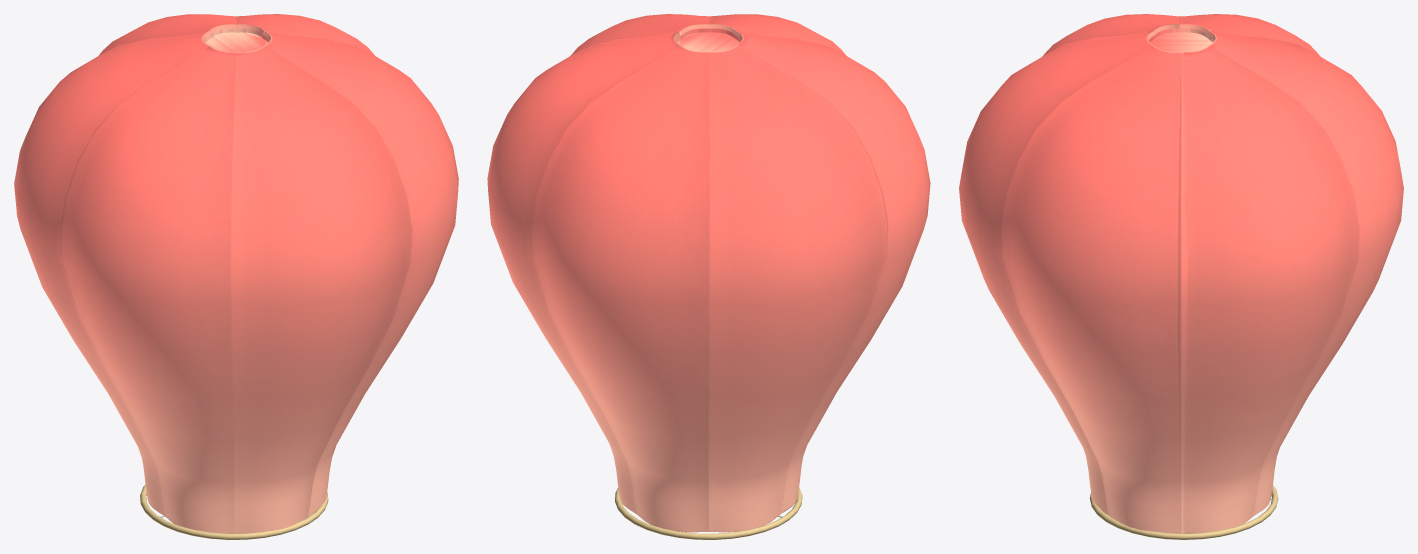
File: lantern.glb
3 views of the same model, side by side, from view 1: azimuth 30°, elevation 25°; view 2: azimuth 150°, elevation 25°; view 3: azimuth 270°, elevation 25° (orthographic).
Parts seen in each view (by area): view 1: Loft.2, Torus; view 2: Loft.2, Torus; view 3: Loft.2, Torus.
Part boxes in pixels (box(x1,y1,x2,y2)): Loft.2: box(14, 14, 458, 533); Torus: box(140, 484, 328, 539); Loft.2: box(487, 14, 930, 532); Torus: box(615, 487, 802, 539); Loft.2: box(959, 14, 1403, 533); Torus: box(1089, 485, 1278, 539).
Bounding box in the file's own units: 705 × 863 × 751.
Materials: 4 (1 with a texture image).
